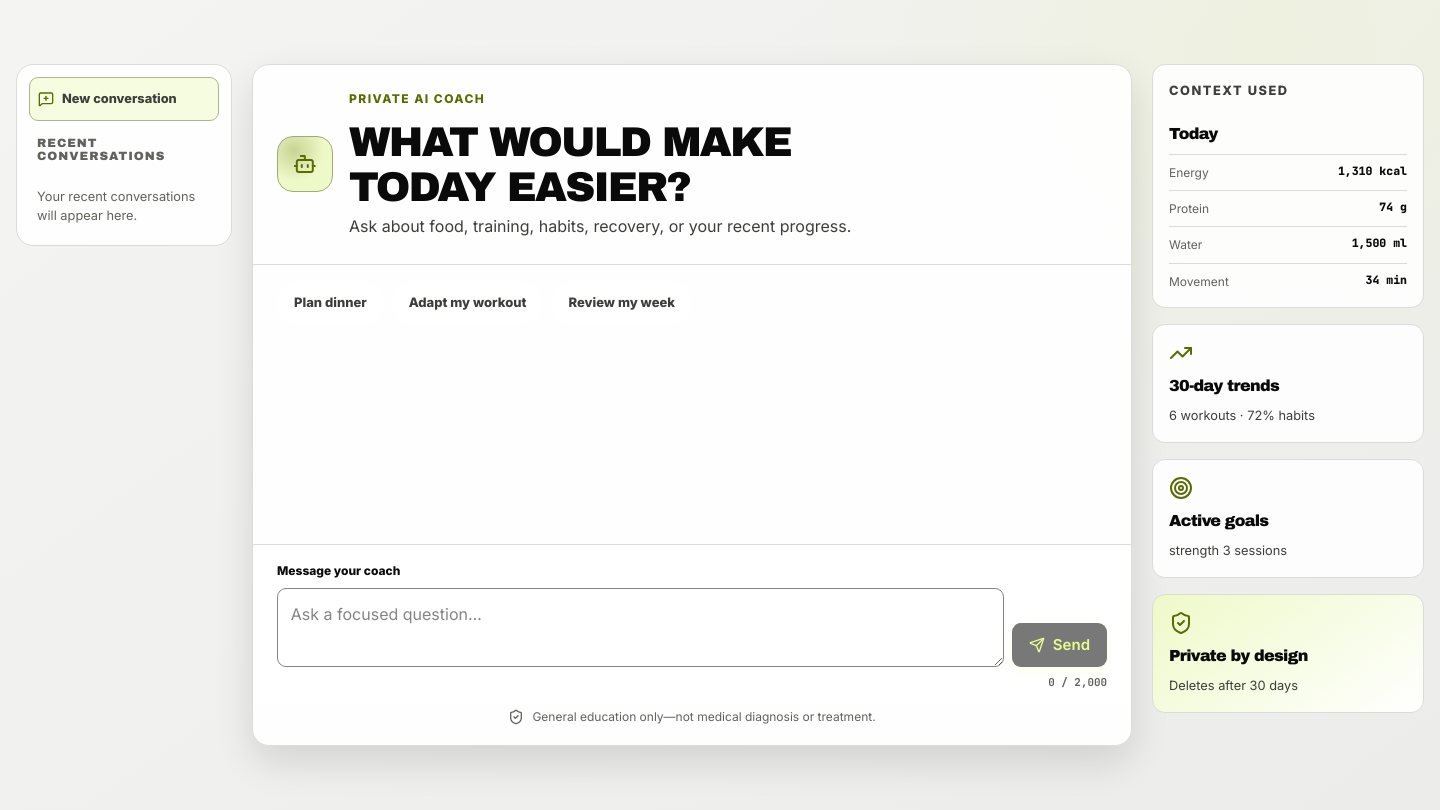
Test: AssistantCanvas › streams a response into the polite conversation region
The image size is (1440, 810).
Type "Plan dinner" into the text box labelled "Message your coach".
click(640, 628); type("Plan dinner")  # box x1=277 y1=588 x2=1004 y2=667
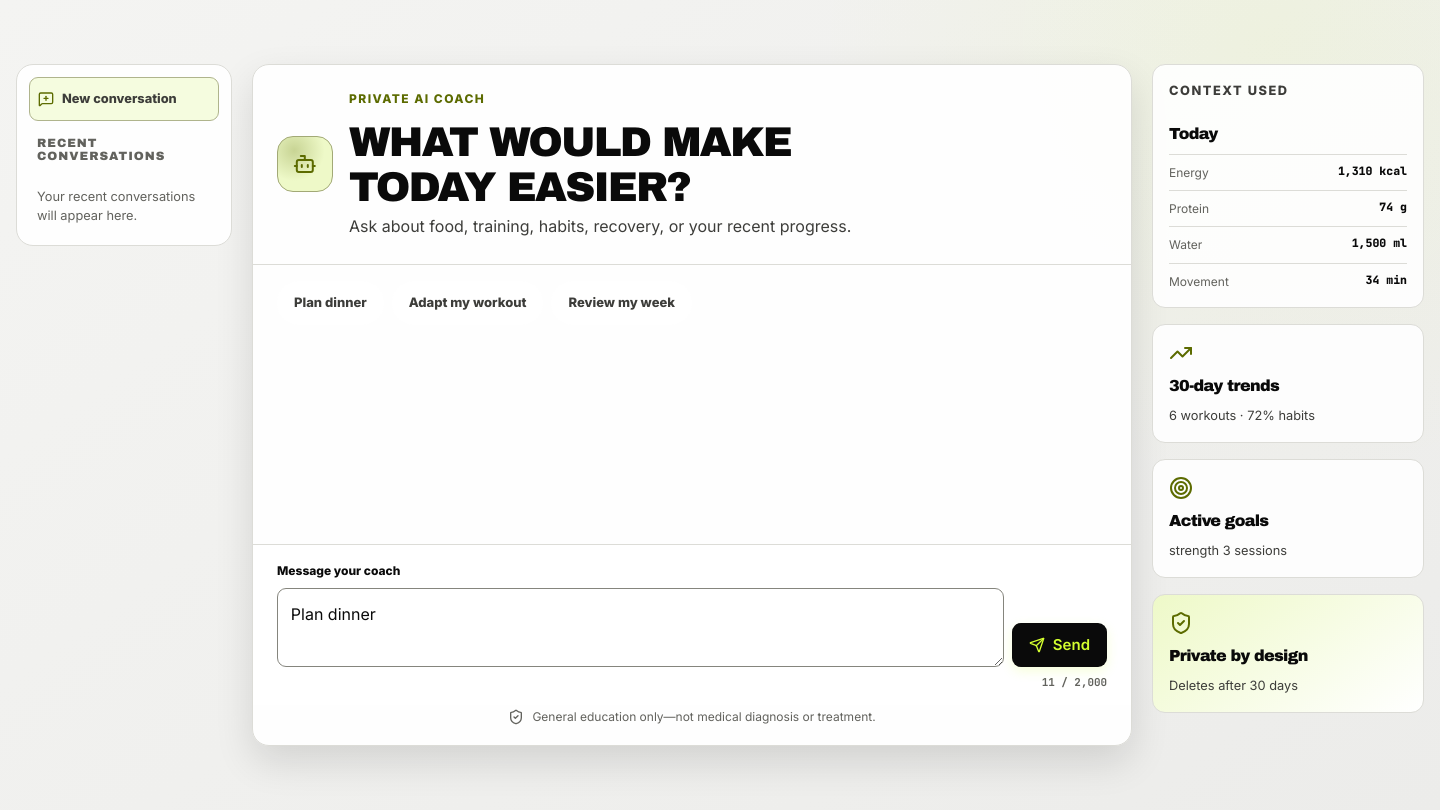
Click the button "Send".
click(1059, 645)  # box x1=1012 y1=623 x2=1107 y2=667
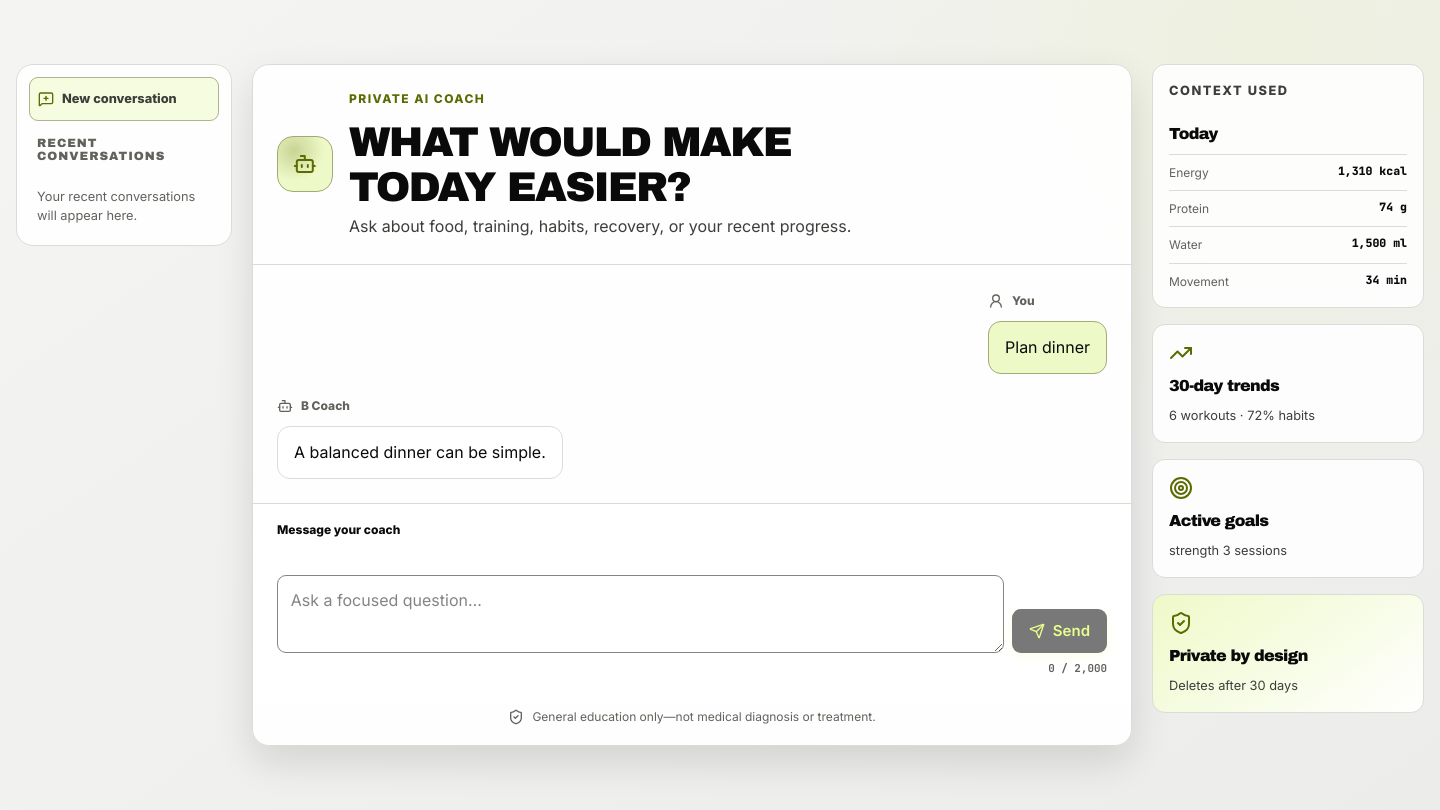
Expected: the text "A balanced dinner can be simple." is shown, x1=277 y1=426 x2=563 y2=479
